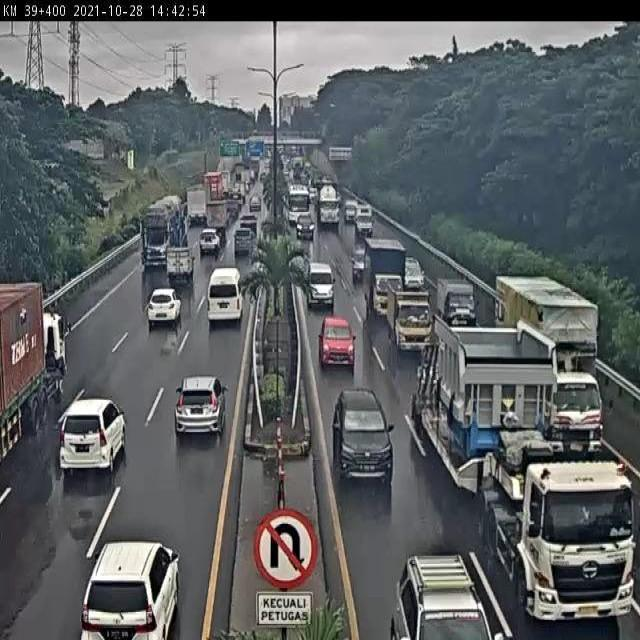car: (81, 541, 181, 640), (333, 388, 396, 493), (58, 397, 128, 472), (174, 378, 228, 438), (207, 265, 246, 328), (318, 315, 358, 373), (306, 263, 338, 312), (147, 287, 181, 325), (166, 243, 195, 285)
truck: (411, 316, 640, 640), (494, 276, 605, 455), (384, 277, 437, 355), (364, 233, 408, 324), (143, 192, 191, 261)
